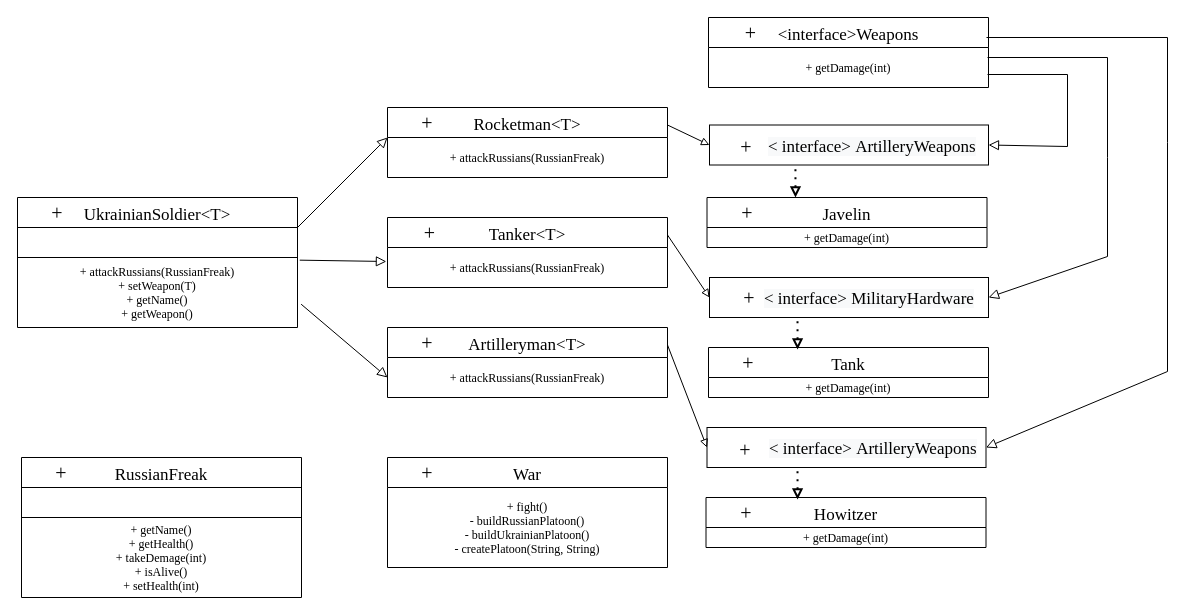
Image size: 1195x615. Some labels were removed from this diagram. The shapes that lost their labels are listed below. From the top down, each one's centre as x and y in pixels, then its label:
point 157,242: - weapon - name
point 161,502: - name - health
